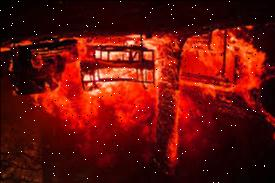fire: (73, 36, 154, 106), (184, 35, 260, 94), (36, 67, 72, 116)
